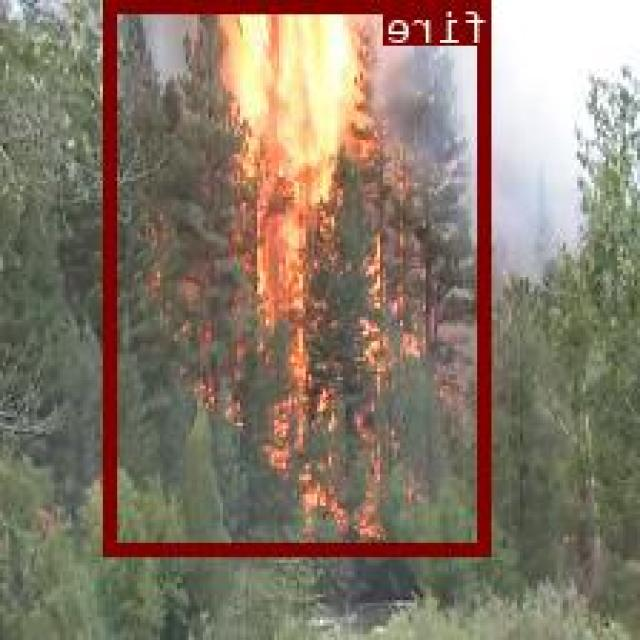fire: (109, 0, 495, 551)
